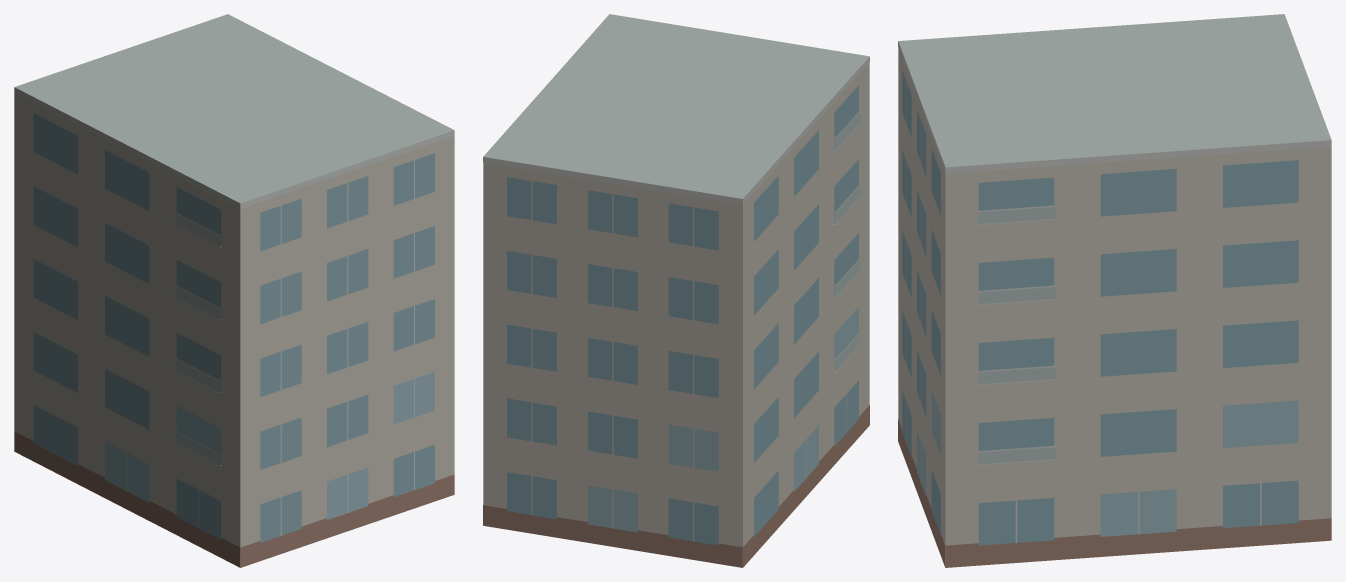
The model's file is survey-upis-32574341.glb.
The picture shows the model from 3 angles, left to right: view 1: azimuth 30°, elevation 25°; view 2: azimuth 150°, elevation 25°; view 3: azimuth 270°, elevation 25°; orthographic projection. The views are drawn at different scales.
Visible parts, largest first — view 1: survey-upis-32574341.tmp; view 2: survey-upis-32574341.tmp; view 3: survey-upis-32574341.tmp.
Part boxes in pixels (x1,y1,x2,y2): survey-upis-32574341.tmp: (14, 14, 454, 567); survey-upis-32574341.tmp: (483, 14, 869, 567); survey-upis-32574341.tmp: (898, 14, 1331, 567).
Bounding box in the file's own units: 12.74 × 15.5 × 15.22.
